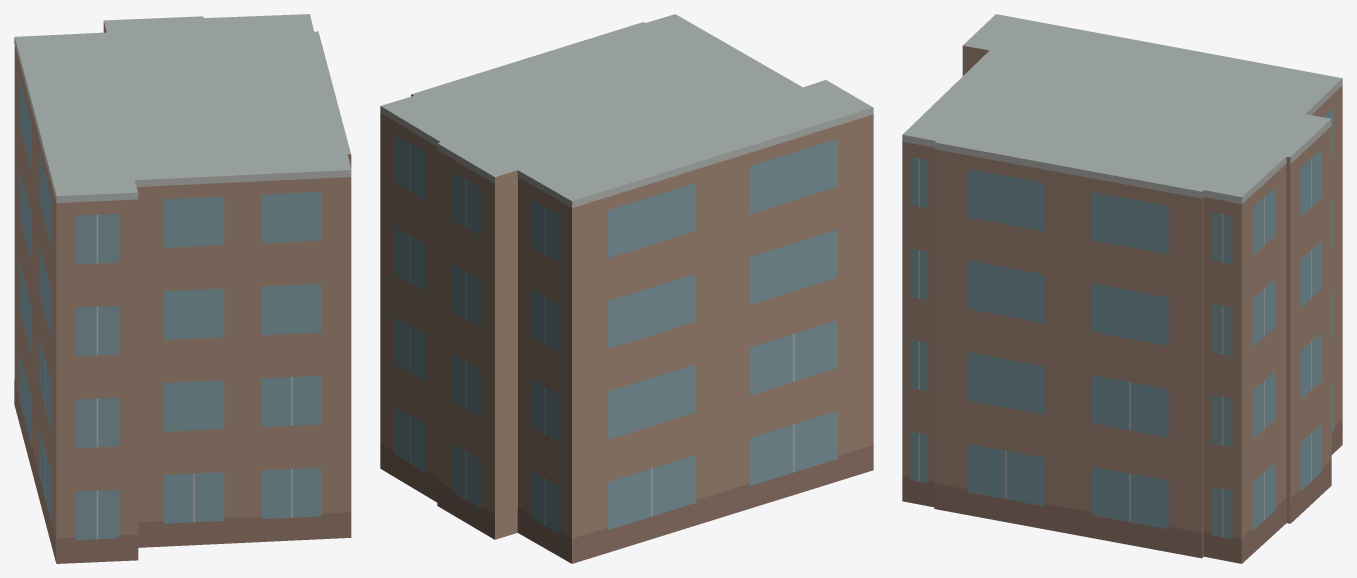
File: survey-upis-32926052.glb
3 views of the same model, side by side, from view 1: azimuth 30°, elevation 25°; view 2: azimuth 150°, elevation 25°; view 3: azimuth 270°, elevation 25° (orthographic).
Parts seen in each view (by area): view 1: survey-upis-32926052.tmp; view 2: survey-upis-32926052.tmp; view 3: survey-upis-32926052.tmp.
Boxes of the visible parts, <box> form: survey-upis-32926052.tmp: <box>14,14,351,563</box>; survey-upis-32926052.tmp: <box>380,14,873,563</box>; survey-upis-32926052.tmp: <box>902,14,1342,563</box>.
Bounding box in the file's own units: 13.96 × 13 × 14.16.
